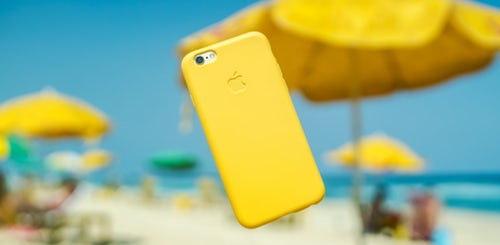phone: (180, 31, 329, 228)
